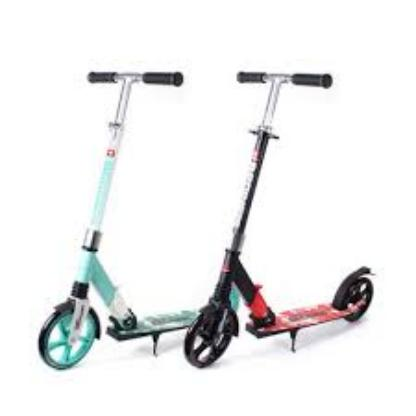bike: (36, 69, 377, 372), (182, 71, 377, 369)
